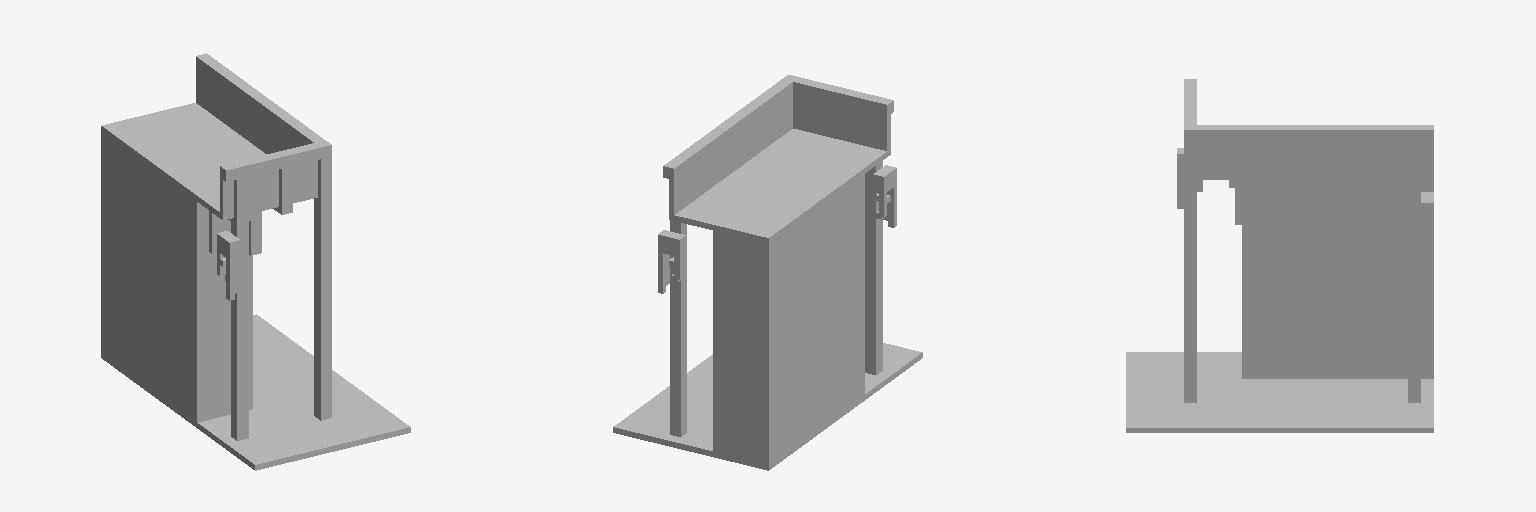
The model's file is villaRedLowerCorner-0.obj.
The picture shows the model from 3 angles: view 1: azimuth 30°, elevation 25°; view 2: azimuth 150°, elevation 25°; view 3: azimuth 270°, elevation 25°; orthographic projection.
Parts seen in each view (by area): view 1: object 1; view 2: object 1; view 3: object 1.
Boxes of the visible parts, <box> form: object 1: <box>101,53,410,470</box>; object 1: <box>613,75,922,470</box>; object 1: <box>1126,79,1433,432</box>.
Size of the model in its own units: 2.8 by 4.8 by 4.8.